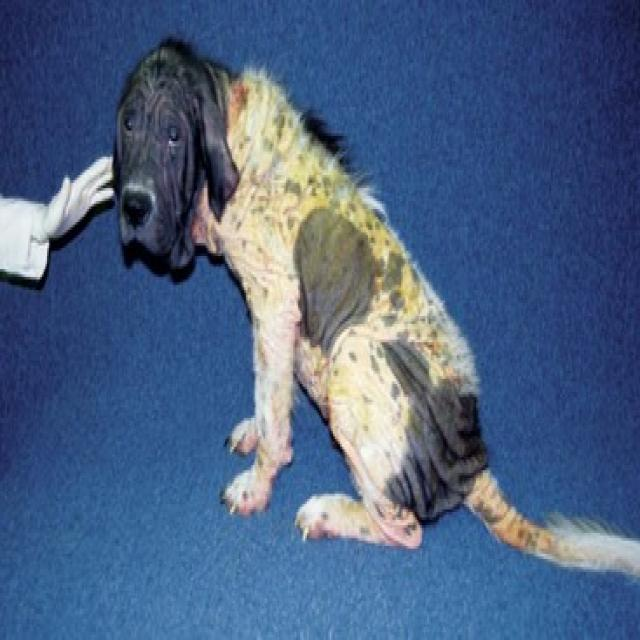nhiem nam (cho): (106, 35, 471, 499)
